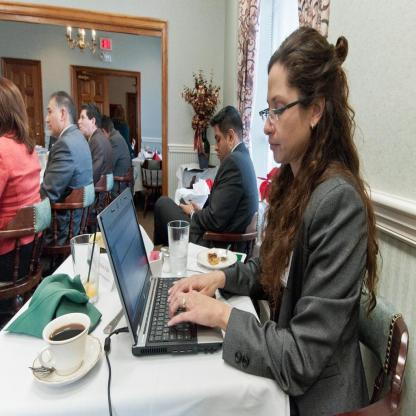board: (95, 186, 225, 357)
